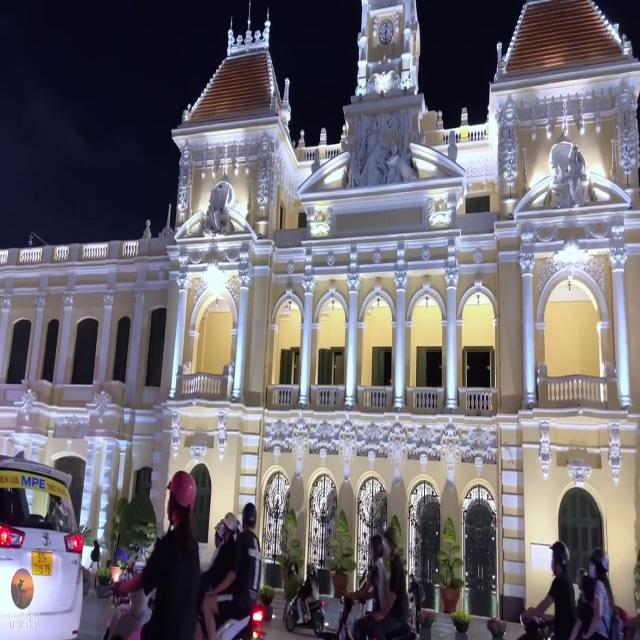bien_vang: (30, 544, 54, 580)
